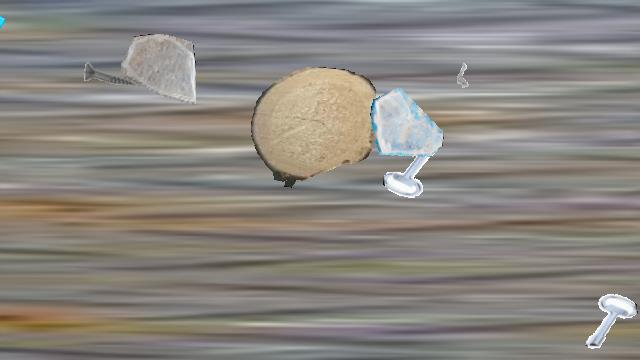glass: (121, 34, 195, 108), (370, 85, 444, 159), (0, 1, 4, 77)
metal: (82, 43, 144, 105), (383, 139, 445, 201), (578, 290, 638, 350), (444, 52, 482, 90)
wood: (251, 67, 375, 189)
